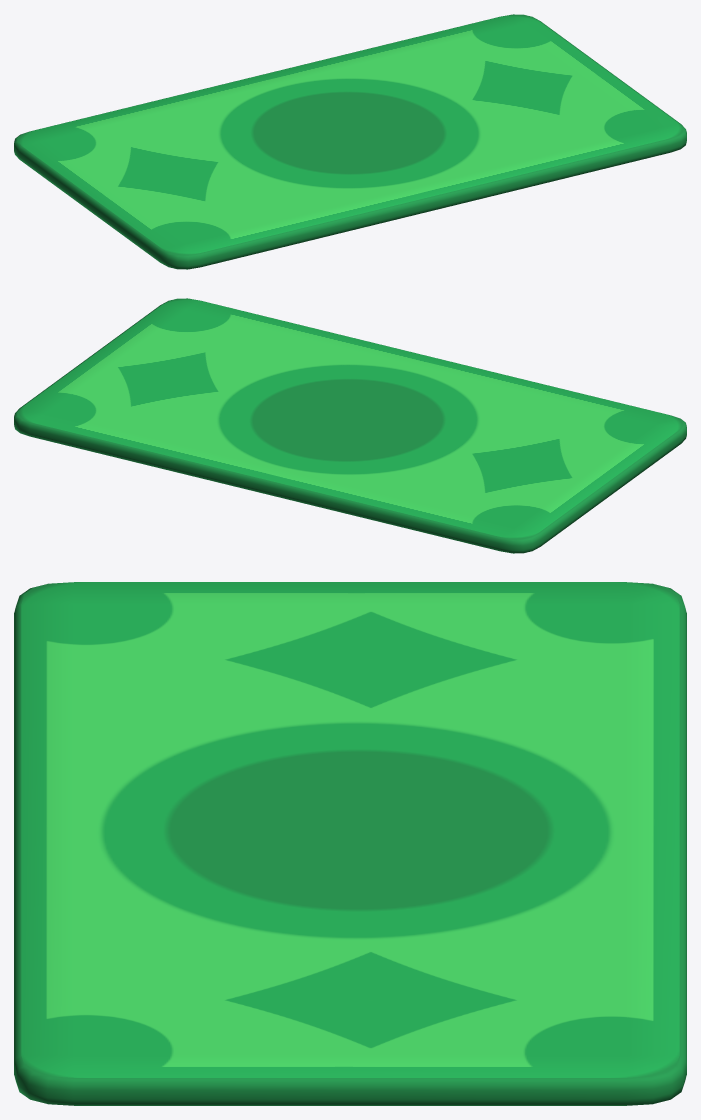
The model's file is Money.fbx.
3 renders of one model, top to bottom at view 1: azimuth 30°, elevation 25°; view 2: azimuth 150°, elevation 25°; view 3: azimuth 270°, elevation 25°, orthographic. The views are drawn at different scales.
Visible parts, largest first — view 1: PaperMoney_02_Single; view 2: PaperMoney_02_Single; view 3: PaperMoney_02_Single.
Part boxes in pixels (x1,y1,x2,y2): PaperMoney_02_Single: (14,14,686,269); PaperMoney_02_Single: (14,298,686,553); PaperMoney_02_Single: (14,582,686,1105).
Size of the model in its own units: 30 by 0.7798 by 17.
